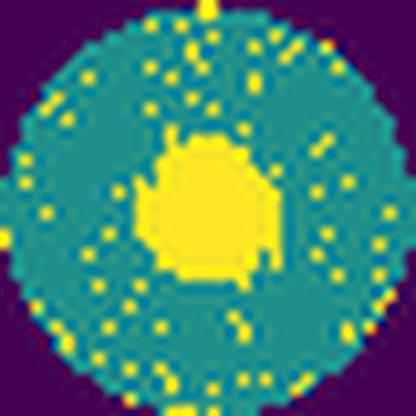Center: (138, 120, 288, 288)
